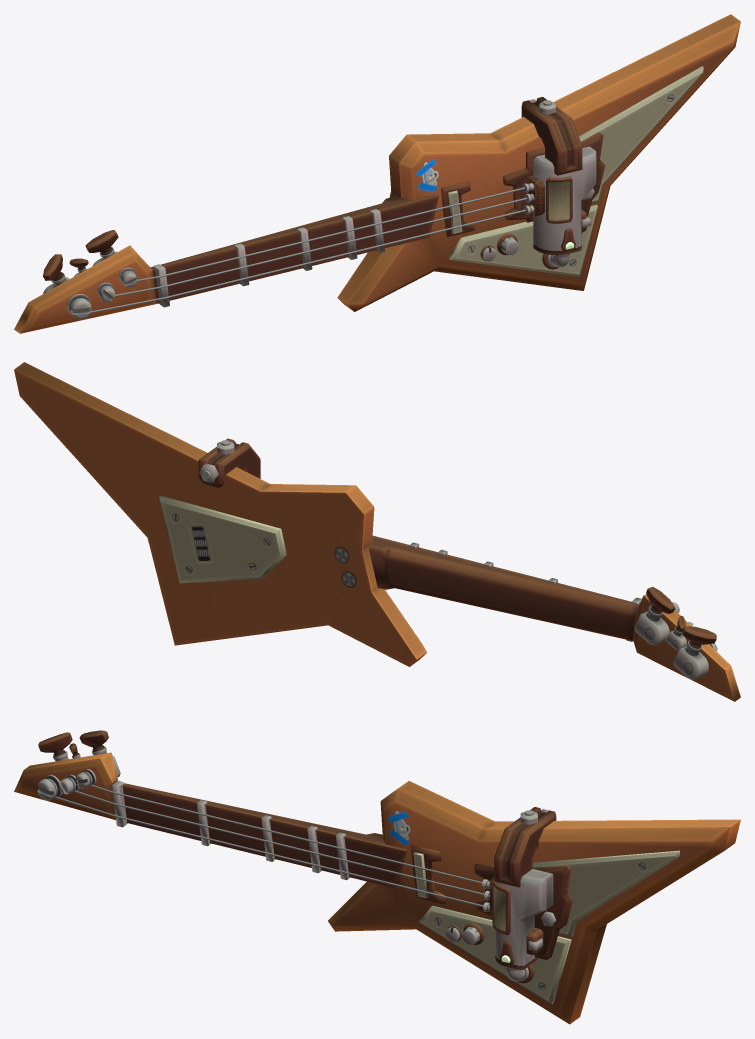
3 views of the same model, one above another, from view 1: azimuth 30°, elevation 25°; view 2: azimuth 150°, elevation 25°; view 3: azimuth 330°, elevation 25° (orthographic). The views are drawn at different scales.
Parts seen in each view (by area): view 1: body_final, neck_final, front_top_plate_final, front_bottom_plate_final, strings_final (×3), center_final, metal_final, top_plate_final, holder_final, zvuk_final, front_middel_plate_final; view 2: body_final, neck_final, rear_plate_final, string_adjust_back_final (×2), metal_final; view 3: body_final, neck_final, front_top_plate_final, front_bottom_plate_final, strings_final (×3), center_final, metal_final, front_middel_plate_final, zvuk_final, top_plate_final, string_adjust_back_final.
Boxes of the visible parts, x1=… form: body_final: x1=337, y1=14, x2=740, y2=311; neck_final: x1=14, y1=194, x2=438, y2=333; front_top_plate_final: x1=579, y1=66, x2=703, y2=203; front_bottom_plate_final: x1=449, y1=204, x2=597, y2=276; strings_final (×3): x1=70, y1=187, x2=527, y2=312; center_final: x1=533, y1=146, x2=596, y2=254; metal_final: x1=521, y1=97, x2=582, y2=175; top_plate_final: x1=546, y1=176, x2=572, y2=223; holder_final: x1=503, y1=147, x2=544, y2=222; zvuk_final: x1=441, y1=181, x2=474, y2=236; front_middel_plate_final: x1=581, y1=132, x2=605, y2=216; body_final: x1=14, y1=362, x2=426, y2=666; neck_final: x1=368, y1=535, x2=740, y2=701; rear_plate_final: x1=159, y1=495, x2=286, y2=583; string_adjust_back_final (×2): x1=634, y1=605, x2=708, y2=679; metal_final: x1=198, y1=438, x2=260, y2=487; body_final: x1=328, y1=781, x2=740, y2=1024; neck_final: x1=14, y1=752, x2=407, y2=888; front_top_plate_final: x1=532, y1=850, x2=679, y2=936; front_bottom_plate_final: x1=419, y1=905, x2=571, y2=1004; strings_final (×3): x1=47, y1=771, x2=483, y2=906; center_final: x1=495, y1=869, x2=553, y2=970; metal_final: x1=494, y1=807, x2=556, y2=887; front_middel_plate_final: x1=532, y1=865, x2=573, y2=959; zvuk_final: x1=411, y1=845, x2=445, y2=904; top_plate_final: x1=492, y1=881, x2=510, y2=935; string_adjust_back_final: x1=38, y1=732, x2=72, y2=756.
Size of the model in its own units: 436 by 135 by 48.06.
Materials: 1 (1 with a texture image).
